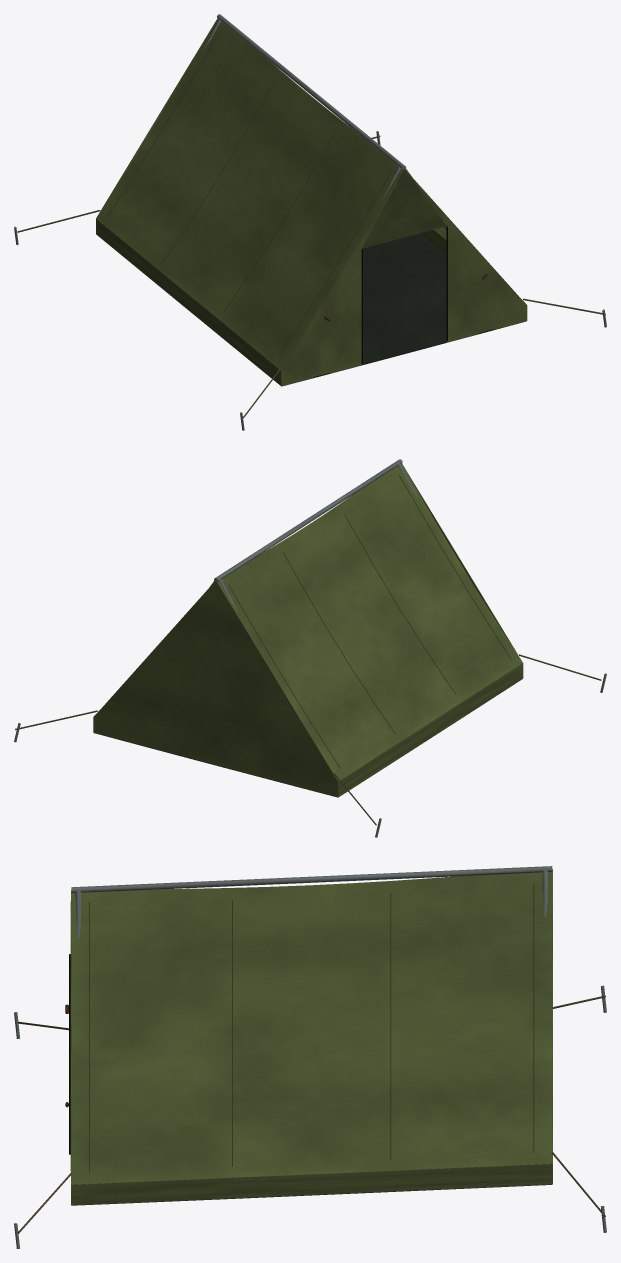
The model's file is level_camp_tent_fitted_pitch_03_siteart.glb.
The picture shows the model from 3 angles, top to bottom: view 1: azimuth 30°, elevation 25°; view 2: azimuth 150°, elevation 25°; view 3: azimuth 270°, elevation 25°; orthographic projection. The views are drawn at different scales.
Visible parts, largest first — view 1: level_camp_tent_fitted_pitch_03_siteart; view 2: level_camp_tent_fitted_pitch_03_siteart; view 3: level_camp_tent_fitted_pitch_03_siteart.
Part boxes in pixels (x1,y1,x2,y2): level_camp_tent_fitted_pitch_03_siteart: (14, 14, 606, 430); level_camp_tent_fitted_pitch_03_siteart: (14, 459, 606, 837); level_camp_tent_fitted_pitch_03_siteart: (14, 866, 606, 1248).
Bounding box in the file's own units: 3.9 × 2.24 × 4.19.
8 materials, 8 textured.
